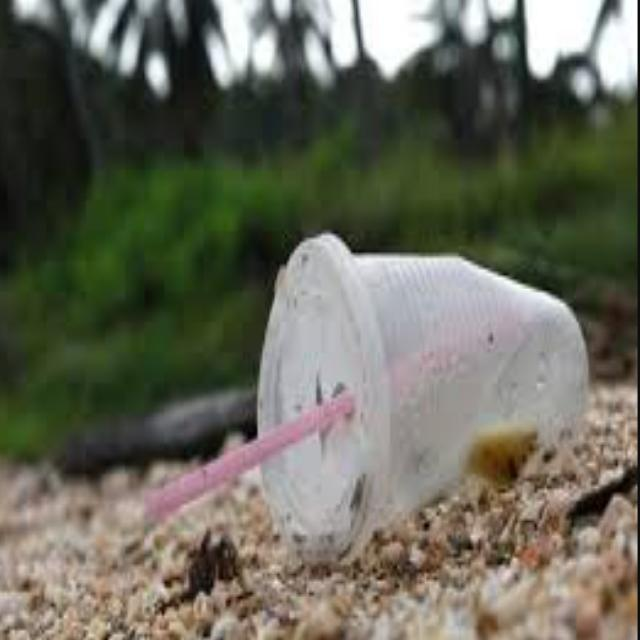GelasPlastik: (254, 229, 591, 566)
